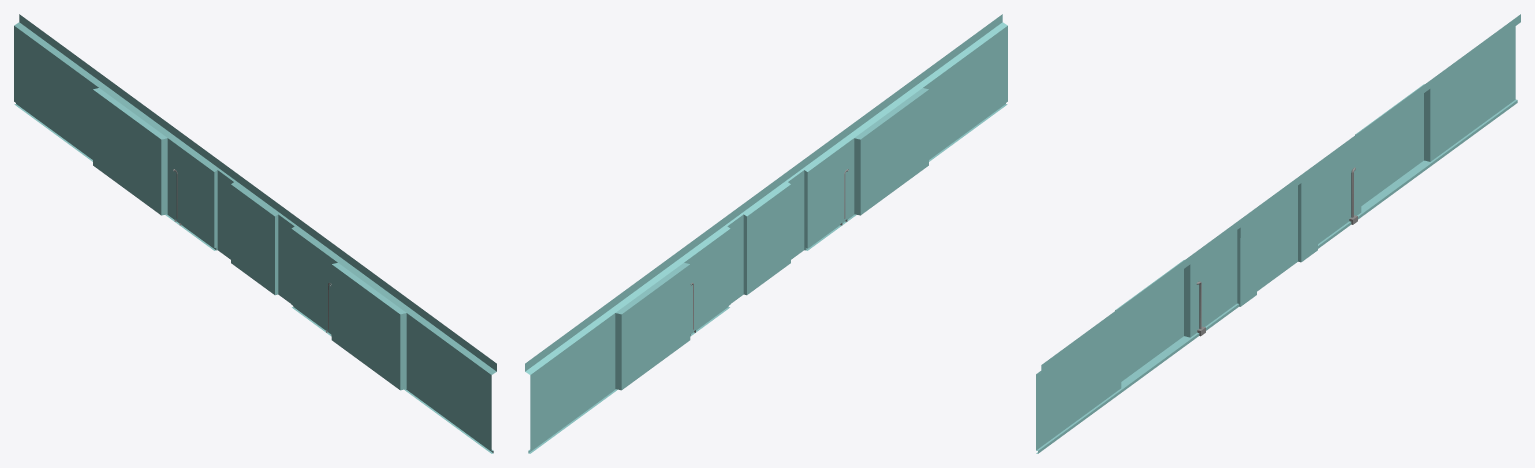
File: TS2_Collider_QiangMian_1.FBX
3 views of the same model, side by side, from view 1: azimuth 30°, elevation 25°; view 2: azimuth 150°, elevation 25°; view 3: azimuth 330°, elevation 25° (orthographic).
Parts seen in each view (by area): view 1: Collider_QiangMian_1; view 2: Collider_QiangMian_1; view 3: Collider_QiangMian_1.
Part boxes in pixels (x1,y1,x2,y2): Collider_QiangMian_1: (14,14,496,453); Collider_QiangMian_1: (525,14,1007,453); Collider_QiangMian_1: (1036,14,1520,453).
Size of the model in its own units: 0.8324 by 6.18 by 59.98.
